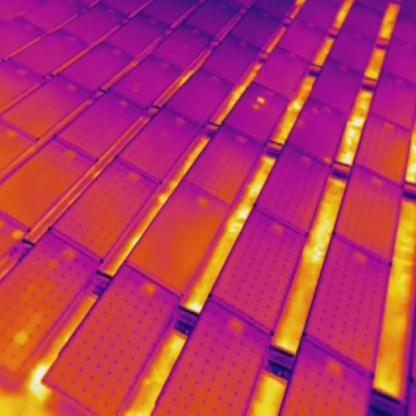anomaly: (247, 92, 269, 116), (12, 327, 29, 347), (9, 225, 25, 241)
